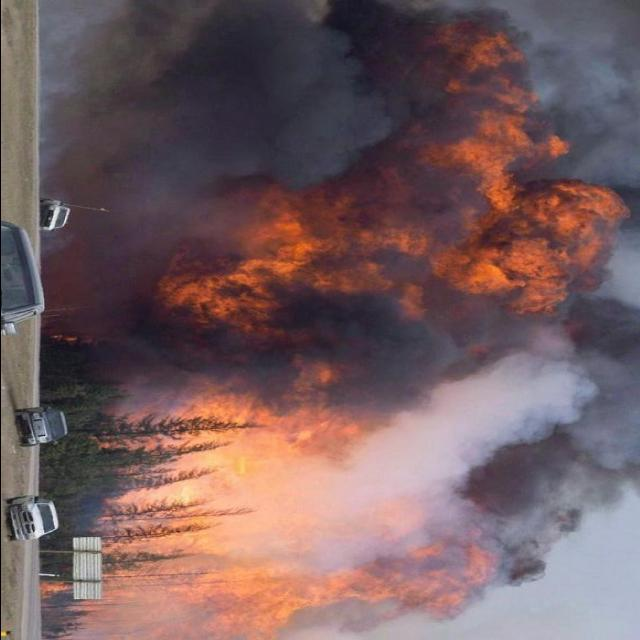Fire: (158, 25, 610, 327), (61, 370, 482, 624)
